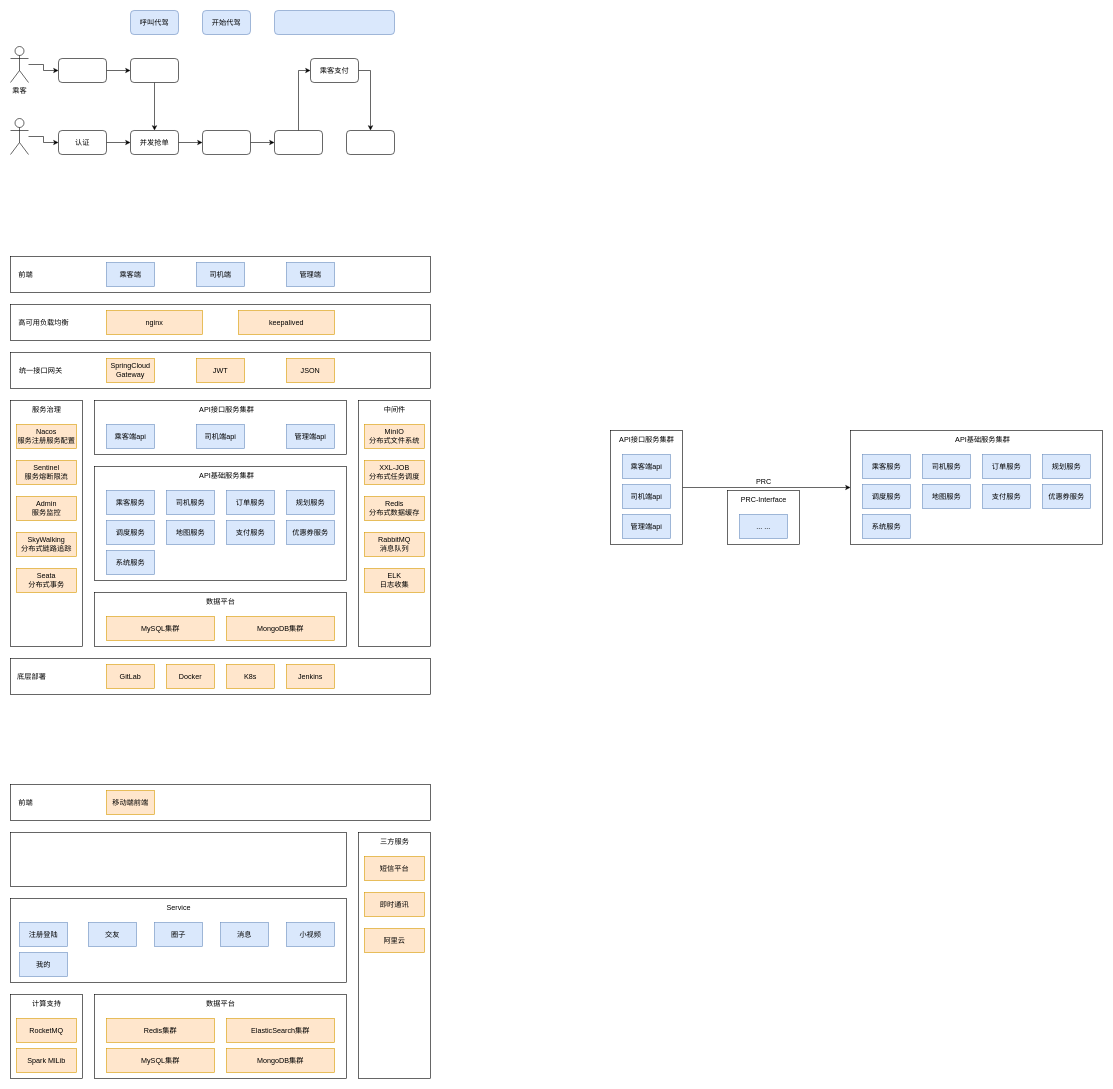
The diagram is 1113 pixels wide and 1089 high, and some of its shapes have lost their labels. The shapes that lost their labels are listed below. From the top down, each one's centre as x and y in pixels, then its label:
(334,22): 结束代驾
(82,70): 登陆 注册
(154,70): 创建订单
(19,136): 司机
(226,142): 录入信息
(298,142): 发送账单
(370,142): 平台分账
(178,859): API
